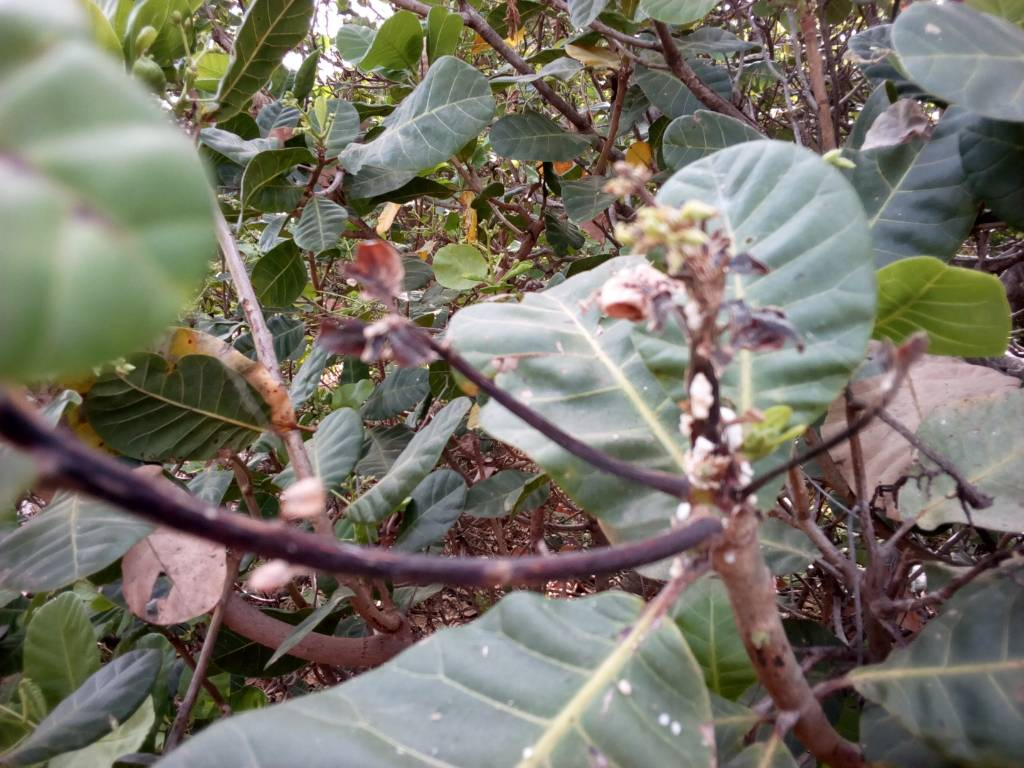Dessèchement des bourgeons: (615, 191, 859, 528)
